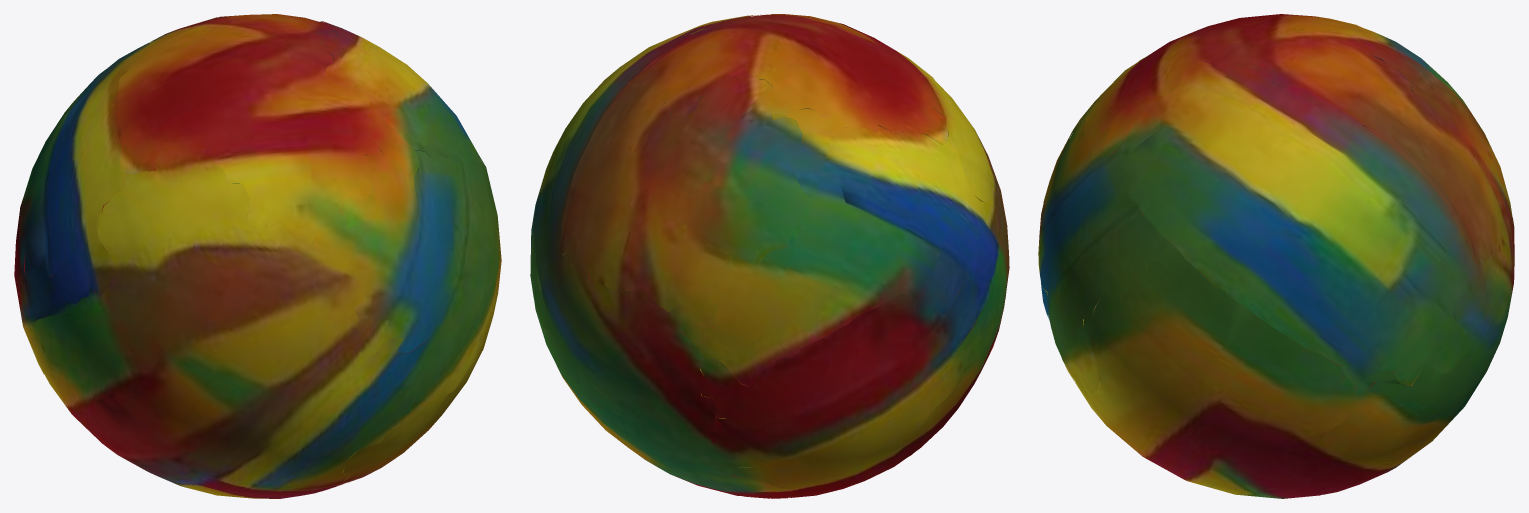
The model's file is kinder_ball.glb.
3 views of the same model, side by side, from view 1: azimuth 30°, elevation 25°; view 2: azimuth 150°, elevation 25°; view 3: azimuth 270°, elevation 25° (orthographic).
Parts seen in each view (by area): view 1: Prop; view 2: Prop; view 3: Prop.
Boxes of the visible parts, x1=… form: Prop: x1=14, y1=14, x2=501, y2=498; Prop: x1=530, y1=14, x2=1009, y2=498; Prop: x1=1038, y1=14, x2=1514, y2=498.
Size of the model in its own units: 0.9944 by 1 by 0.9807.
1 material, 1 textured.
